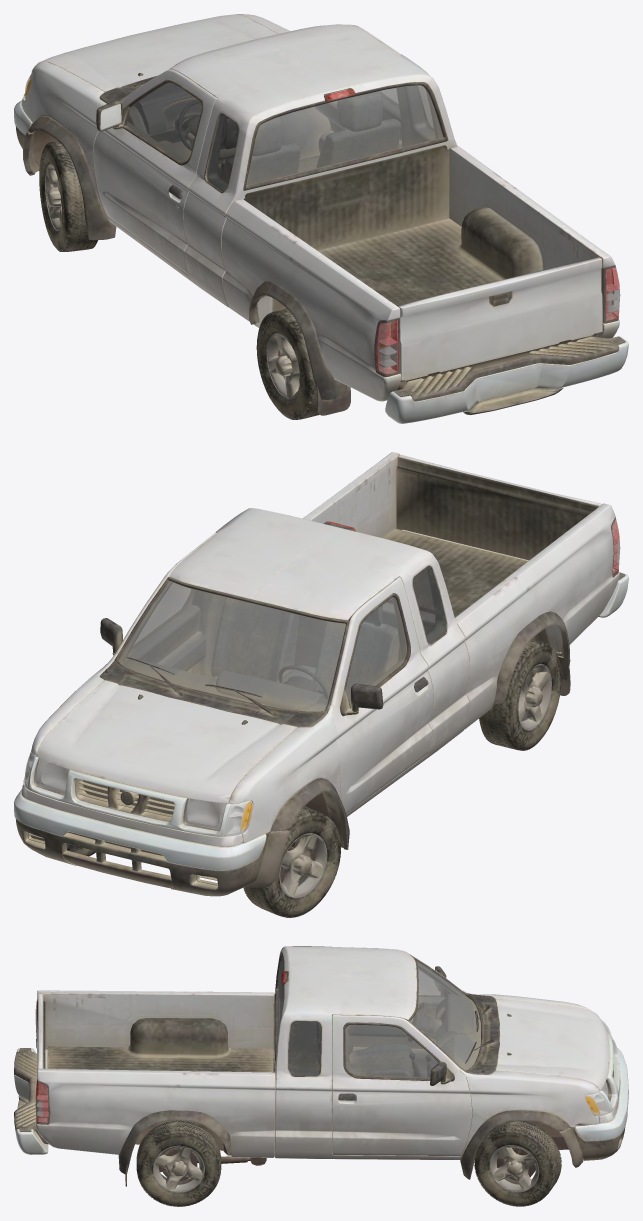
The model's file is nissan_4x4.glb.
3 views of the same model, one above another, from view 1: azimuth 30°, elevation 25°; view 2: azimuth 150°, elevation 25°; view 3: azimuth 270°, elevation 25° (orthographic). The views are drawn at different scales.
Parts seen in each view (by area): view 1: UVset4_PlastiqueTemoin_low_lambert1_0, UVset4_PlastiqueTemoin_low_plastic_0, UVset4_PlastiqueTemoin_low_GLASS_0; view 2: UVset4_PlastiqueTemoin_low_lambert1_0, UVset4_PlastiqueTemoin_low_plastic_0, UVset4_PlastiqueTemoin_low_GLASS_0; view 3: UVset4_PlastiqueTemoin_low_lambert1_0, UVset4_PlastiqueTemoin_low_plastic_0, UVset4_PlastiqueTemoin_low_GLASS_0.
Part boxes in pixels (x1,y1,x2,y2): UVset4_PlastiqueTemoin_low_lambert1_0: [14, 14, 628, 423]; UVset4_PlastiqueTemoin_low_plastic_0: [25, 76, 617, 419]; UVset4_PlastiqueTemoin_low_GLASS_0: [24, 74, 620, 375]; UVset4_PlastiqueTemoin_low_lambert1_0: [14, 452, 628, 896]; UVset4_PlastiqueTemoin_low_plastic_0: [25, 539, 617, 917]; UVset4_PlastiqueTemoin_low_GLASS_0: [24, 519, 620, 836]; UVset4_PlastiqueTemoin_low_lambert1_0: [14, 946, 628, 1186]; UVset4_PlastiqueTemoin_low_plastic_0: [37, 959, 609, 1206]; UVset4_PlastiqueTemoin_low_GLASS_0: [35, 956, 610, 1123].
Bounding box in the file's own units: 11.27 × 9.28 × 27.84.
3 materials, 3 textured.
